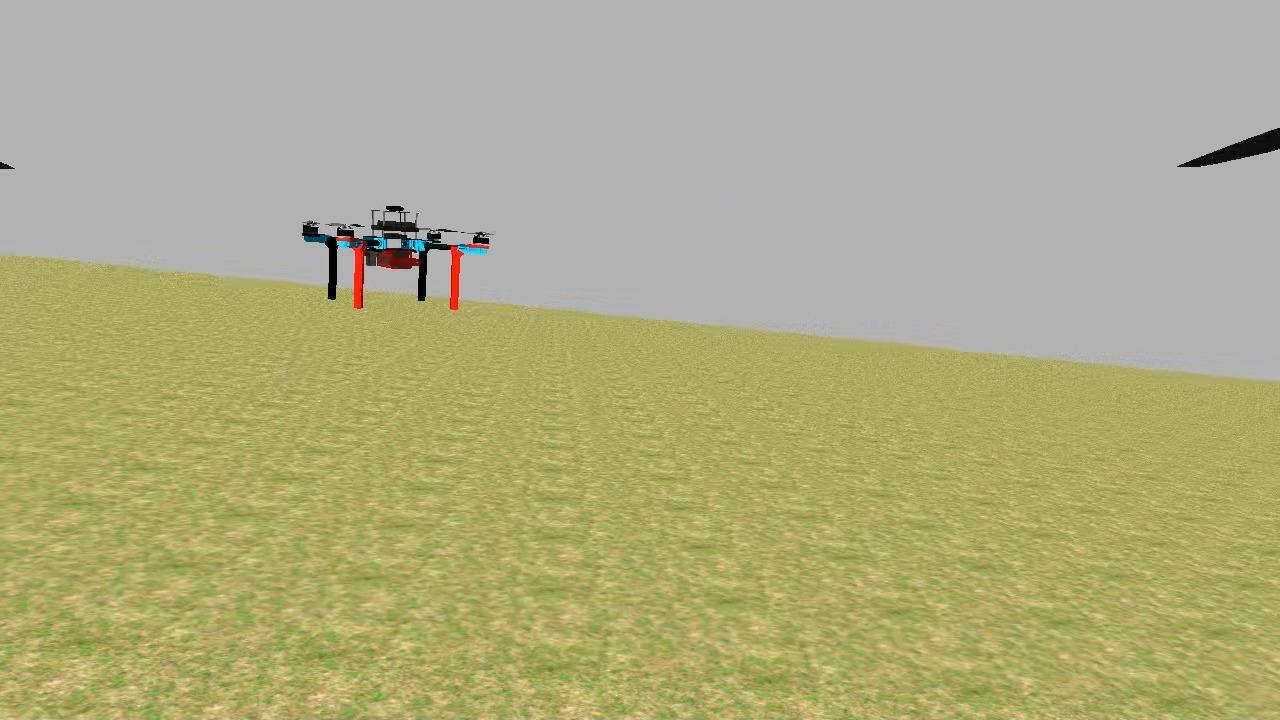UAV: (299, 194, 497, 319)
